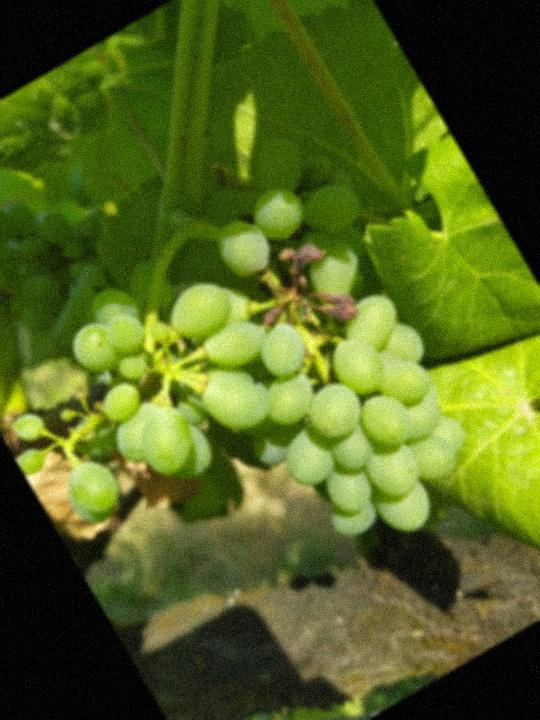grape: (0, 106, 530, 692)
